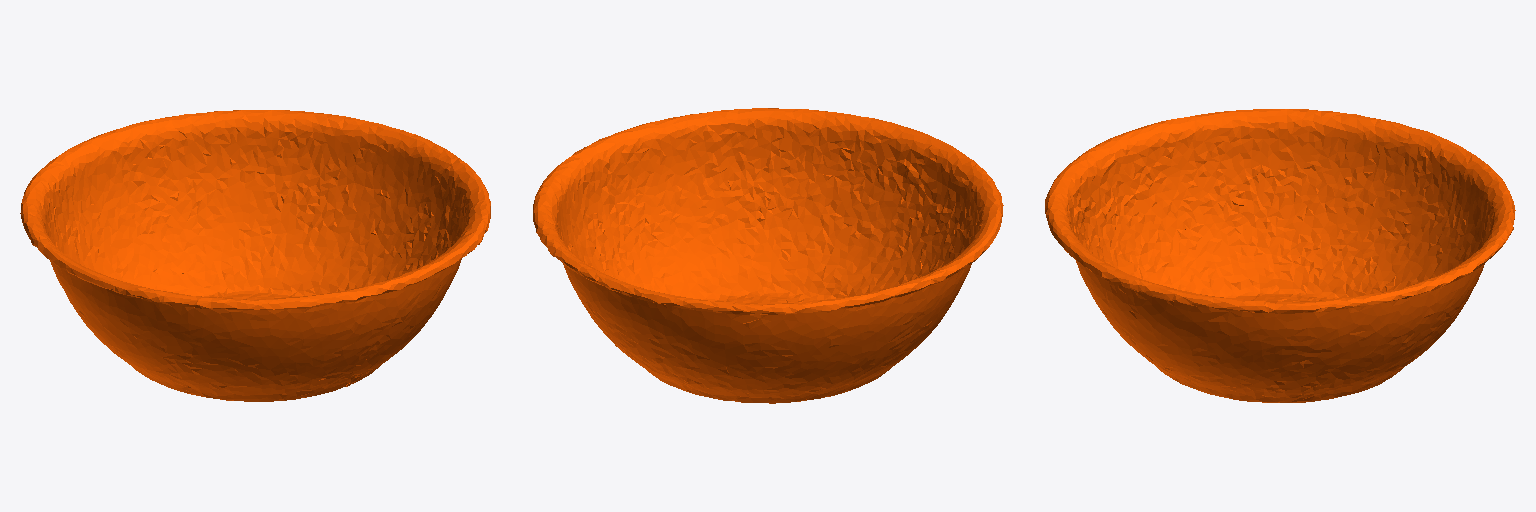
The robot description file, URDF, robot "024_bowl":
<?xml version="1.0" ?>
<robot name="024_bowl">
   <material name="obj_color">
      <color rgba="1.0 0.423529411765 0.0392156862745 1.0"/>
   </material>
   <link name="top">
      <inertial>
         <origin rpy="0.0001493528590958622 0.0001552219077089176 0.0002569987409135247" xyz="0.0002006280823372717 -0.001614202648128146 0.00175882766067636"/>
         <mass value="0.06538215223557924"/>
         <inertia ixx="0.0001539115125967389" ixy="2.444635830265941e-06" ixz="-2.217078002432056e-09" iyy="0.0001507123653712435" iyz="2.284126866675936e-06" izz="0.0002569496297503222"/>
      </inertial>
      <visual>
         <origin rpy="0 0 0" xyz="0 0 0"/>
         <geometry>
            <mesh filename="top_watertight_tiny.stl" scale="1 1 1"/>
         </geometry>
         <material name="obj_color"/>
      </visual>
      <collision>
         <origin rpy="0 0 0" xyz="0 0 0"/>
         <geometry>
            <mesh filename="top_watertight_tiny.obj" scale="1 1 1"/>
         </geometry>
      </collision>
   </link>
   <link name="bottom">
      <inertial>
         <origin rpy="1.633333333199431e-08 1.633333333199431e-08 1.633333333362855e-08" xyz="0.3464080000000008 0.3464080000000008 0.3464080000000008"/>
         <mass value="0.0009800000000000017"/>
         <inertia ixx="1.633333333253906e-08" ixy="5.447480642029219e-19" ixz="5.447480642029219e-19" iyy="1.633333333253906e-08" iyz="5.447480642029219e-19" izz="1.633333333253906e-08"/>
      </inertial>
      <visual>
         <origin rpy="0 0 0" xyz="0 0 0"/>
         <geometry>
            <mesh filename="bottom_watertight_tiny.stl" scale="1 1 1"/>
         </geometry>
         <material name="obj_color"/>
      </visual>
   </link>
   <joint name="rotation" type="revolute">
      <origin xyz="0 0 0"/>
      <axis xyz="0 0 -1"/>
      <parent link="bottom"/>
      <child link="top"/>
      <dynamics damping="1.0" friction="1.0"/>
      <limit effort="0.1" velocity="0.1" lower="0" upper="0.001"/>
   </joint>
</robot>

--- What the picture shows (computed from the rendered views, not written in the file) ---
The picture shows the robot from 3 angles, left to right: view 1: azimuth 30°, elevation 25°; view 2: azimuth 150°, elevation 25°; view 3: azimuth 270°, elevation 25°; orthographic projection.
Robot: 024_bowl — 2 links, 1 joints (1 revolute); root link bottom; default pose: all joints at 0.
Links seen in each view (by area): view 1: top; view 2: top; view 3: top.
Link boxes in pixels (box(x1,y1,x2,y2)): top: box(20, 110, 490, 401); top: box(533, 108, 1003, 403); top: box(1045, 109, 1515, 402).
Bounding box of the posed robot: 0.1615 × 0.1612 × 0.055 m (x, y, z).
Meshes: 2 distinct files referenced, 1 mesh visuals loaded (1 binary STL); not drawn: 1 (reference not matched to a file when rendering).
